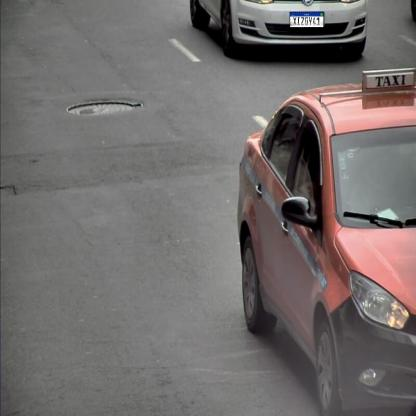PlacaM: (290, 12, 324, 28)
